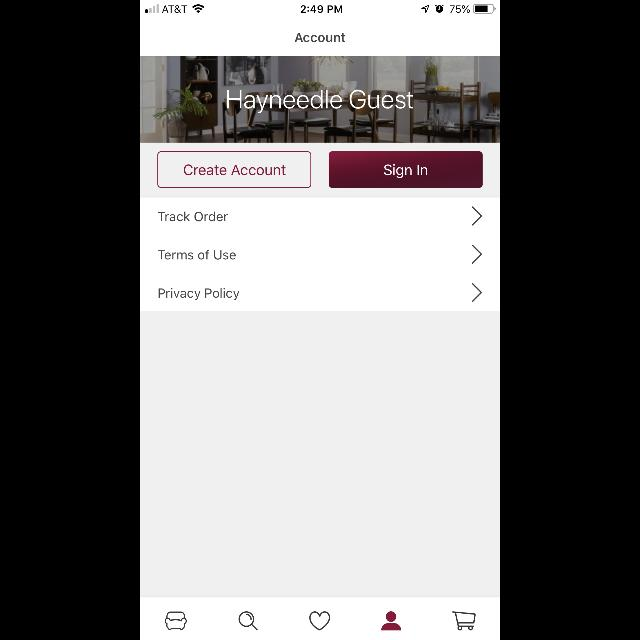icon: (452, 612, 476, 630), (381, 612, 401, 630), (310, 612, 330, 630), (238, 612, 258, 630), (472, 282, 482, 302), (472, 244, 482, 264), (472, 207, 482, 226)
image: (140, 56, 500, 144), (165, 612, 187, 630)
text: (227, 90, 413, 112), (158, 288, 240, 300), (158, 250, 236, 260), (158, 212, 228, 222), (294, 34, 346, 42)
textbutton: (329, 152, 483, 188), (157, 152, 311, 188)
uppertaskbar: (140, 0, 500, 14)
